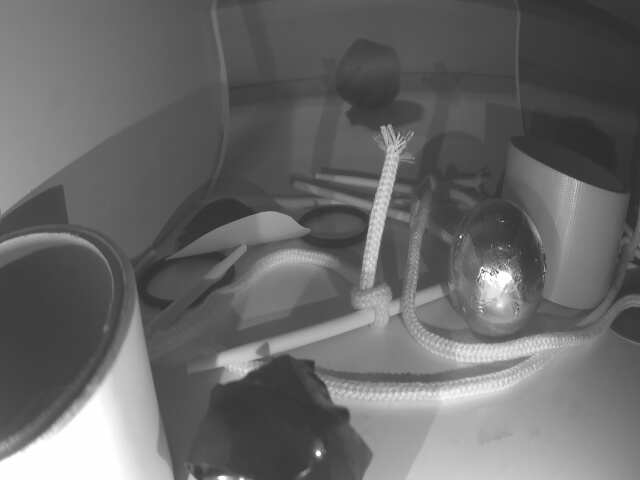Dead: (185, 362, 346, 480)
Live: (448, 196, 546, 335)
